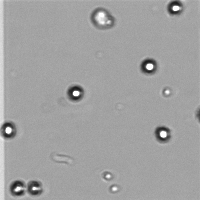Living Cell: (88, 5, 119, 33), (4, 174, 31, 200), (62, 81, 88, 103), (150, 122, 174, 145), (1, 116, 20, 144), (137, 55, 160, 77), (164, 1, 185, 21), (23, 178, 43, 197)
